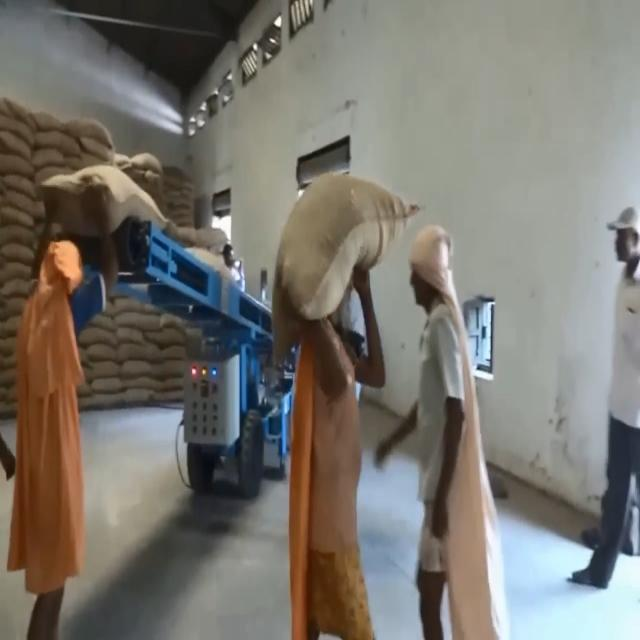gunny_bag: (267, 168, 422, 363), (45, 170, 168, 233)
